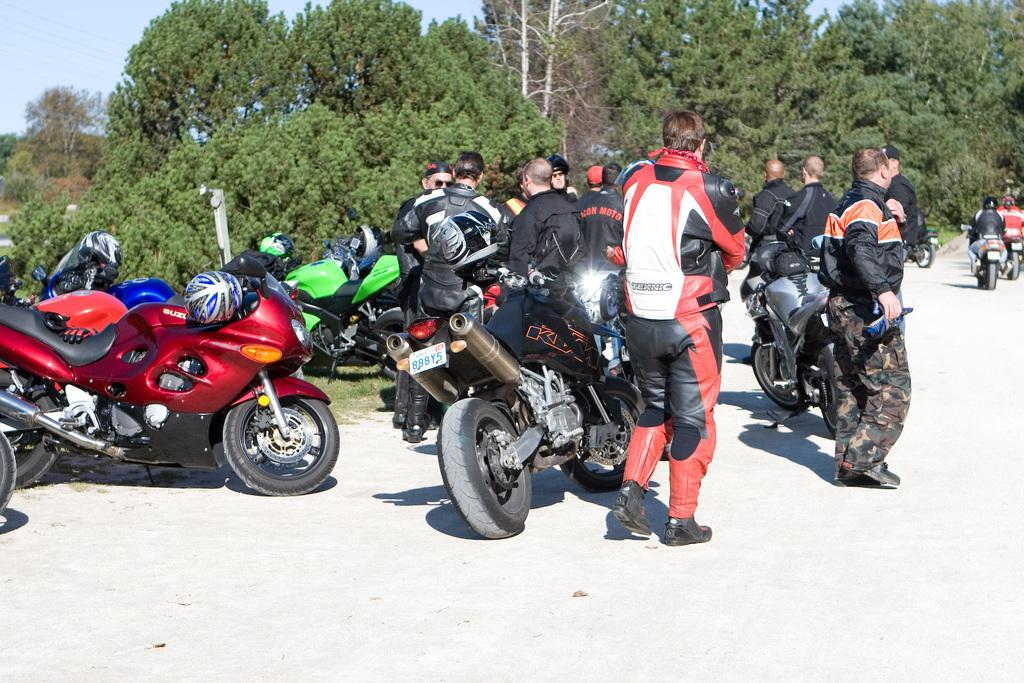helmet: (431, 210, 502, 271), (183, 271, 244, 325), (77, 230, 123, 279), (259, 232, 295, 272), (540, 154, 570, 190), (354, 224, 385, 258), (982, 196, 998, 210), (1001, 195, 1015, 207)
nohelmet: (662, 109, 706, 168), (851, 146, 893, 193), (522, 157, 554, 200), (452, 151, 484, 193), (800, 155, 824, 187), (602, 162, 622, 191), (763, 159, 785, 185), (586, 165, 606, 191)
